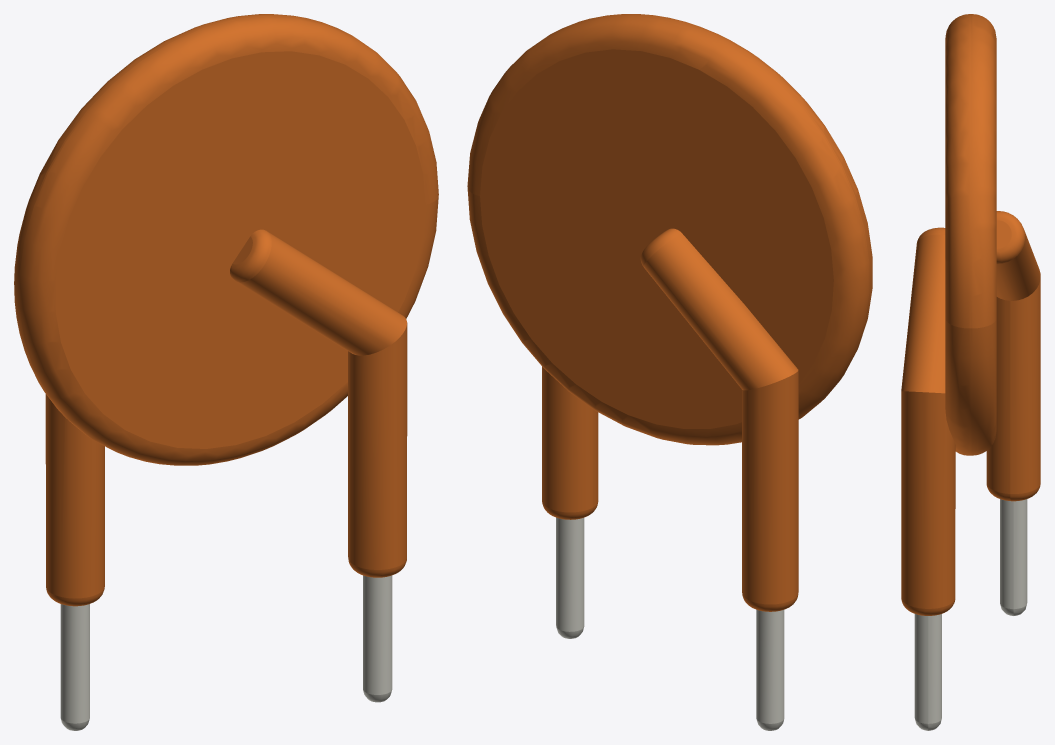
Rendered from kc-fuse_belfuse_0zre_0zre0008ff_l8.3mm_w3.8mm.glb.
The picture shows the model from 3 angles, left to right: view 1: azimuth 30°, elevation 25°; view 2: azimuth 150°, elevation 25°; view 3: azimuth 270°, elevation 25°; orthographic projection. The views are drawn at different scales.
Visible parts, largest first — view 1: 0.5833333333333334_0.16666666666666666_0_0, 0.6666666666666666_0.6666666666666666_0.5833333333333334_0.8; view 2: 0.5833333333333334_0.16666666666666666_0_0, 0.6666666666666666_0.6666666666666666_0.5833333333333334_0.8; view 3: 0.5833333333333334_0.16666666666666666_0_0, 0.6666666666666666_0.6666666666666666_0.5833333333333334_0.8.
Part boxes in pixels (x1=…): 0.5833333333333334_0.16666666666666666_0_0: x1=14, y1=14, x2=438, y2=606; 0.6666666666666666_0.6666666666666666_0.5833333333333334_0.8: x1=60, y1=575, x2=392, y2=730; 0.5833333333333334_0.16666666666666666_0_0: x1=467, y1=14, x2=872, y2=611; 0.6666666666666666_0.6666666666666666_0.5833333333333334_0.8: x1=556, y1=517, x2=784, y2=730; 0.5833333333333334_0.16666666666666666_0_0: x1=901, y1=14, x2=1040, y2=615; 0.6666666666666666_0.6666666666666666_0.5833333333333334_0.8: x1=914, y1=499, x2=1027, y2=730.
Bounding box in the file's own units: 0.8289 × 1.32 × 0.2619.
